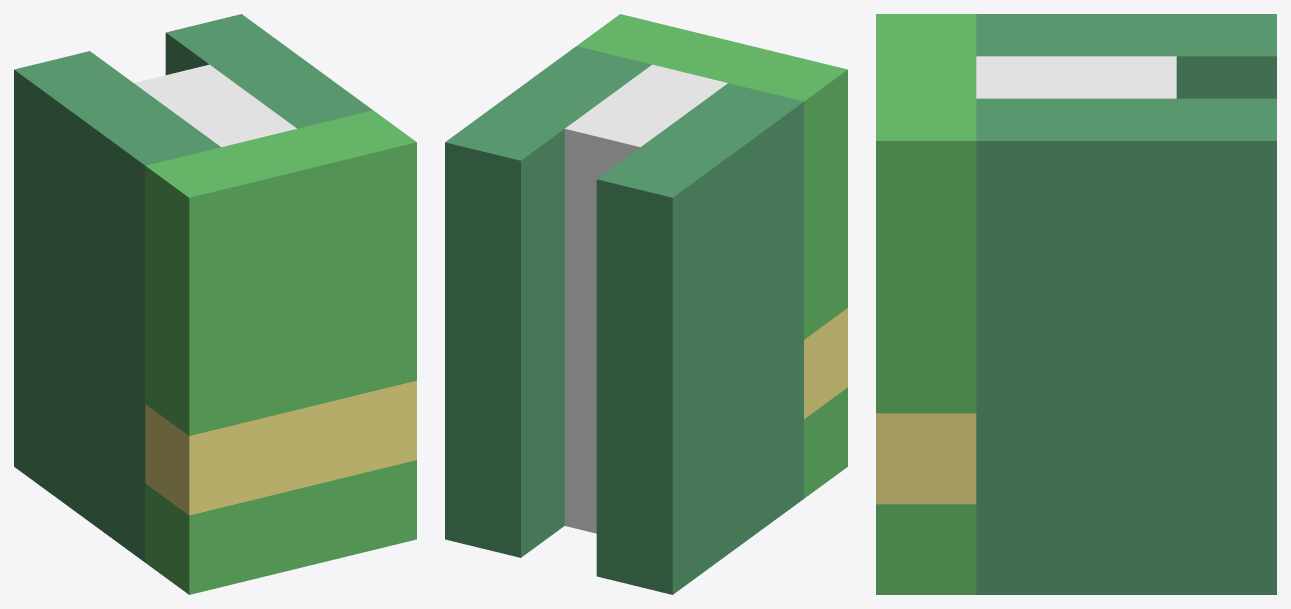
Rendered from book_green.obj.
3 renders of one model, left to right at view 1: azimuth 30°, elevation 25°; view 2: azimuth 150°, elevation 25°; view 3: azimuth 270°, elevation 25°, orthographic. The views are drawn at different scales.
Bounding box in the file's own units: 0.3 × 0.5 × 0.4.
1 material, 1 textured.
